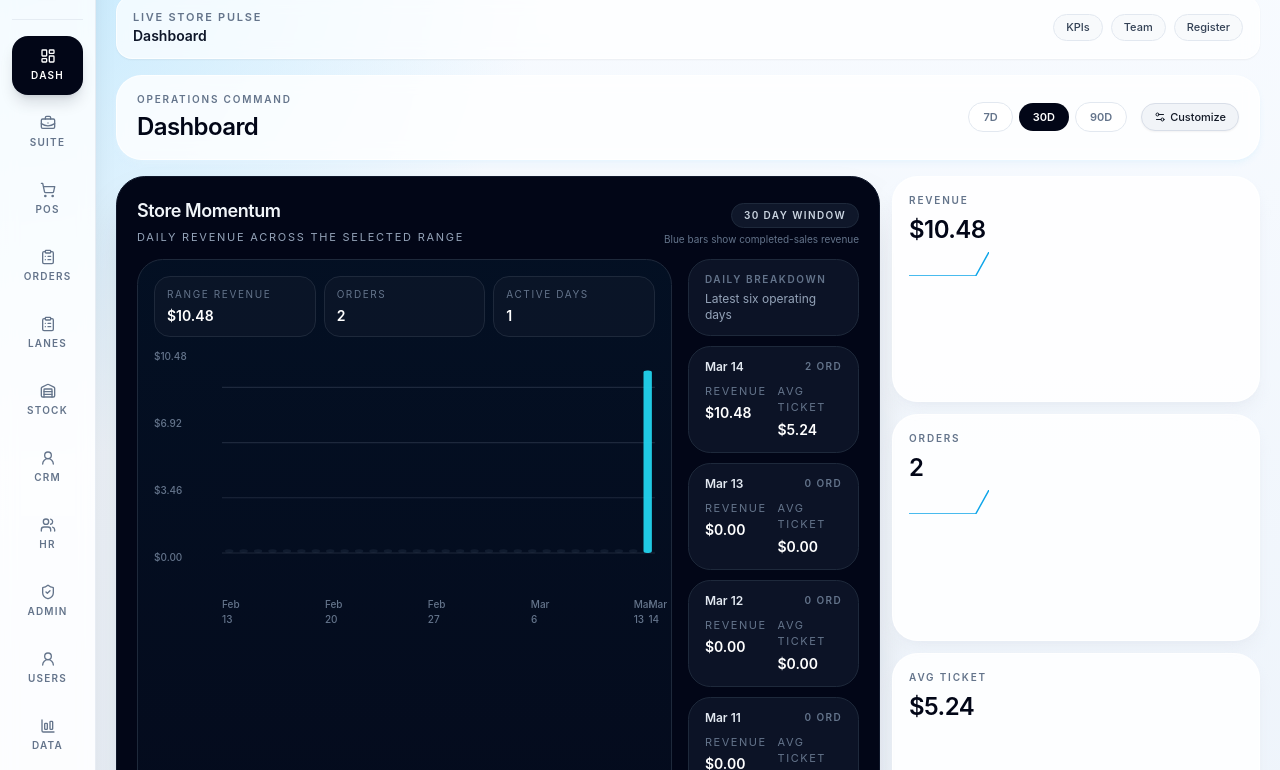
it: app flows › completes a checkout flow from pos page
This screenshot has width=1280, height=770.
Expected: the heading "Dashboard" is shown, [137,112,258,140]
Click the link "POS": {"x": 48, "y": 198} [35,182,60,215]
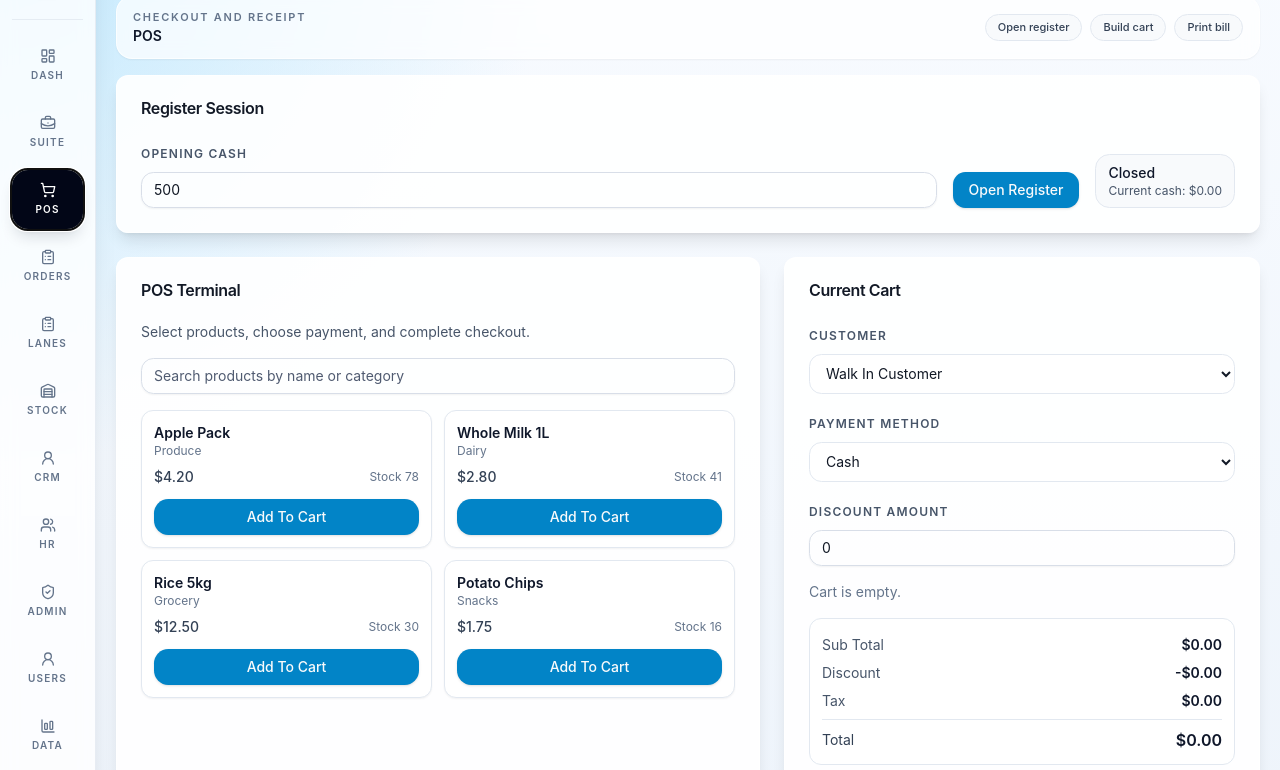
Expected: the heading "POS Terminal" is shown, [141,280,240,300]
Click the button "Open Register": {"x": 1016, "y": 190} [953,172,1080,208]
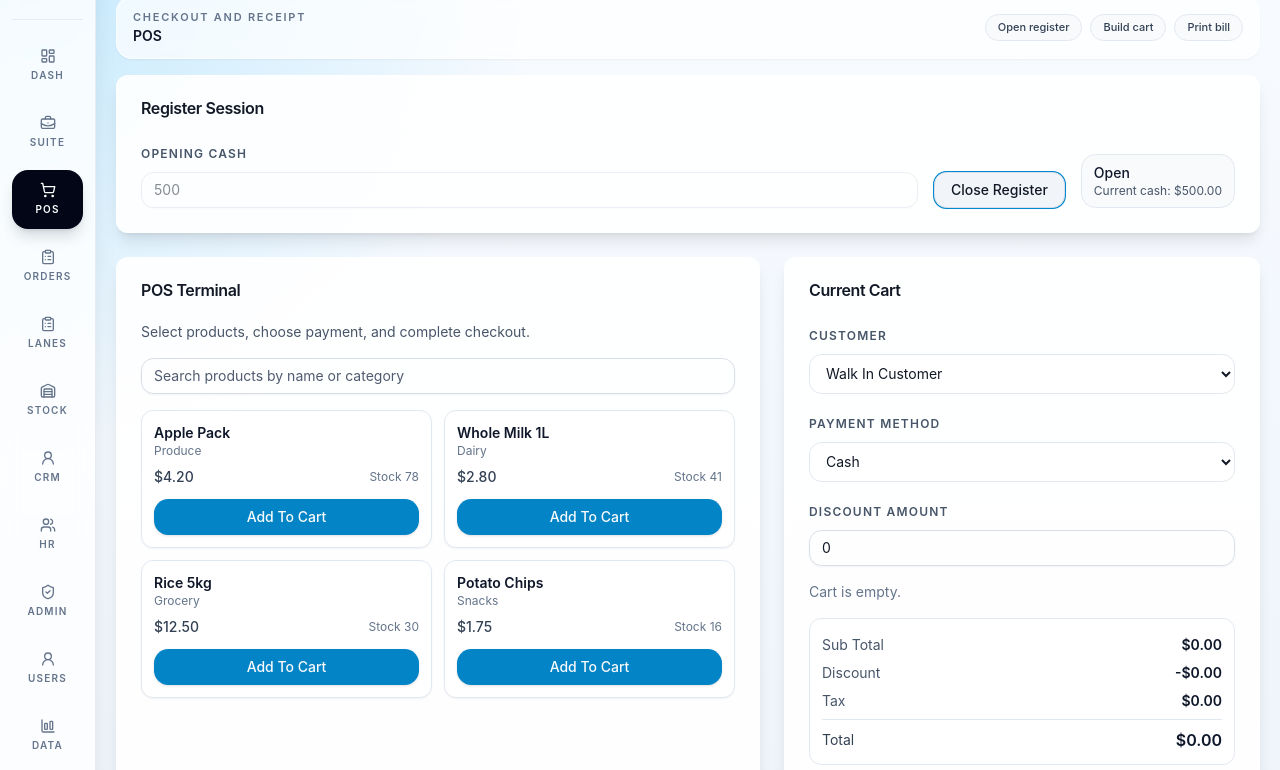
Click the button "Add To Cart" below "$4.20": {"x": 286, "y": 516} [154,498,419,534]
(page scrolled)
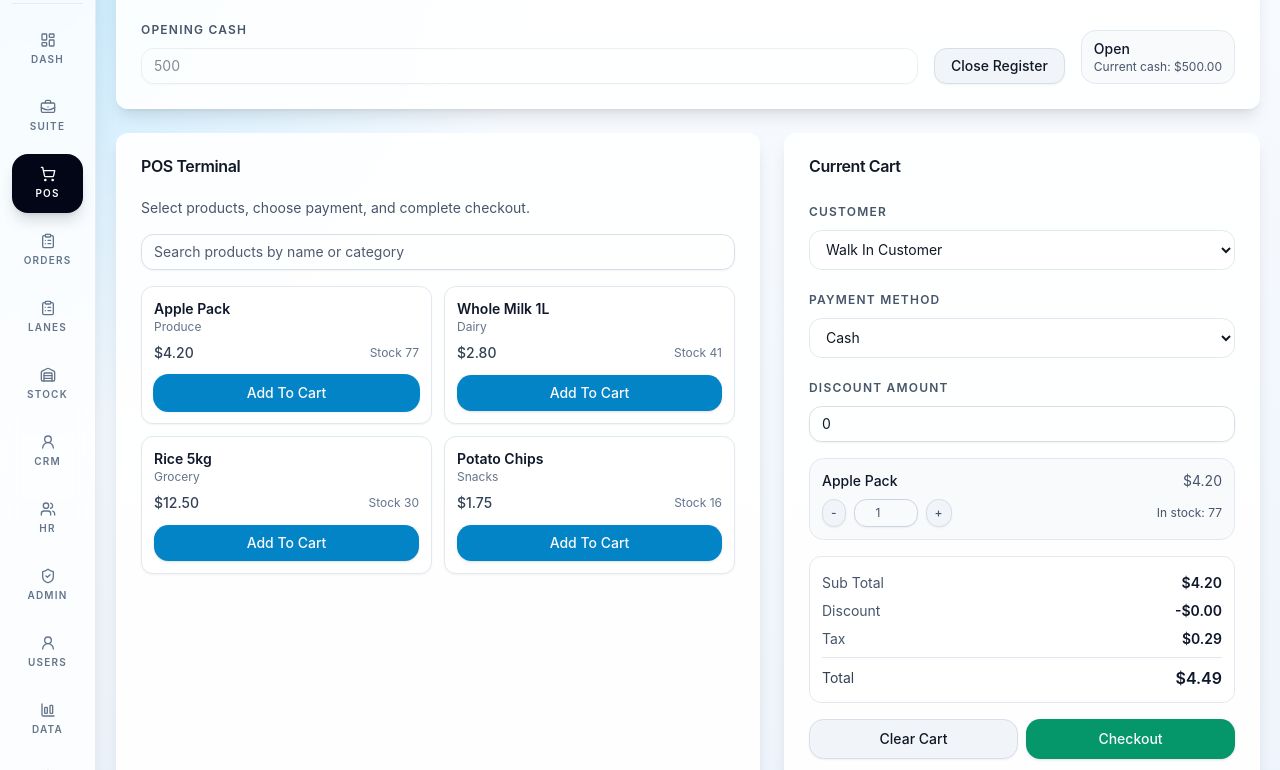
Click the button "Checkout": {"x": 1130, "y": 738} [1026,718,1235,758]
(page scrolled)
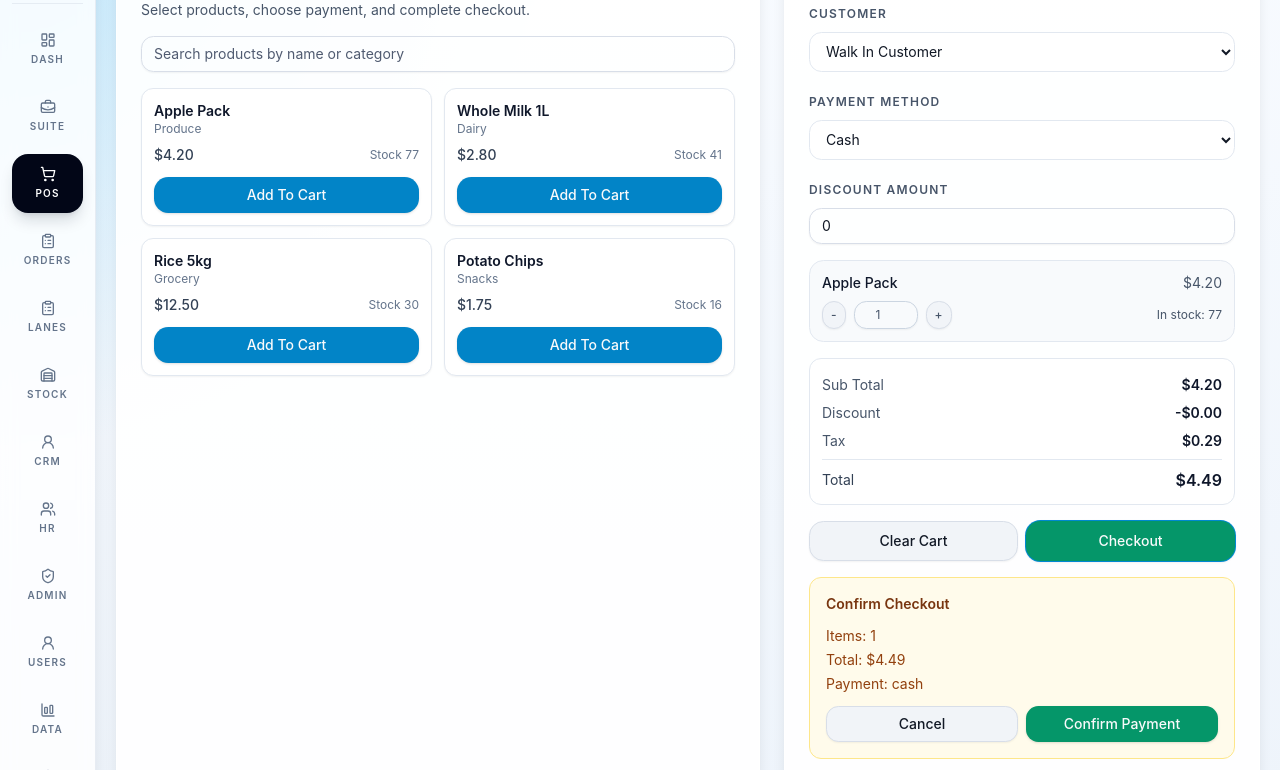
Click the button "Confirm Payment": {"x": 1122, "y": 724} [1026,706,1218,742]
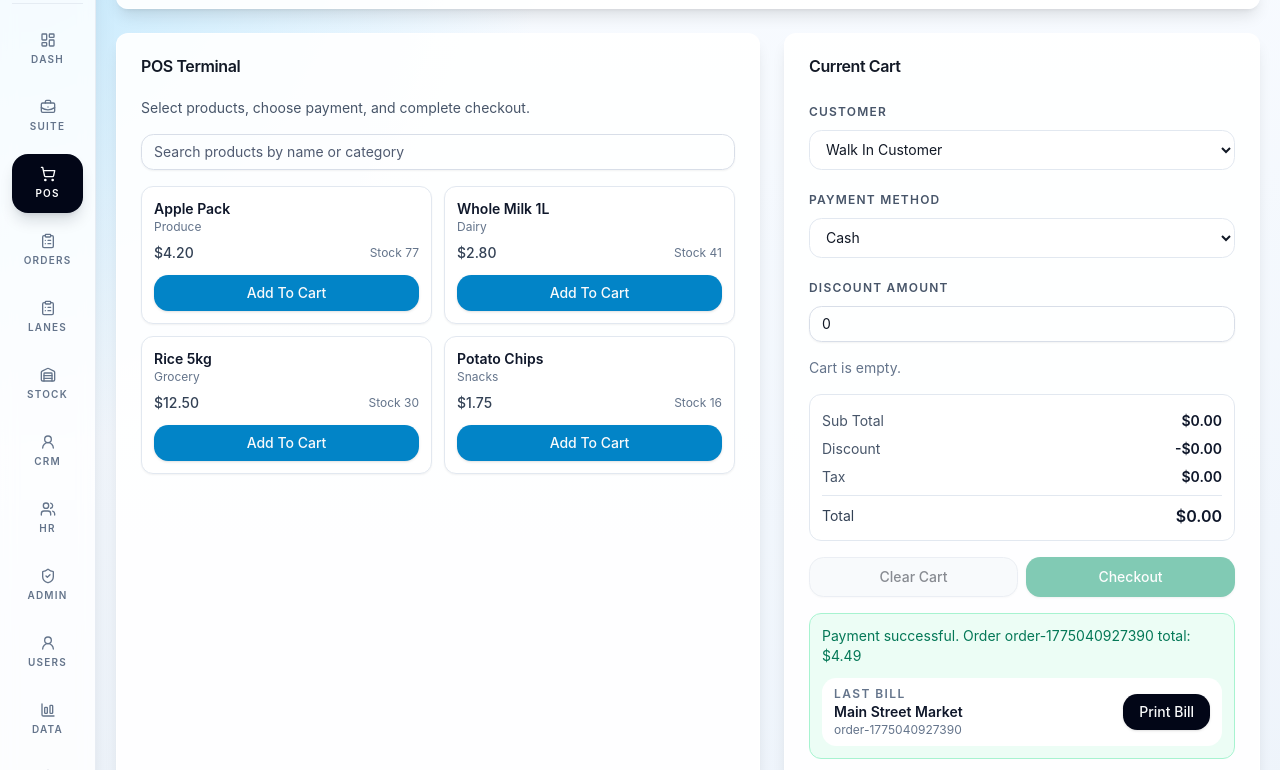
Expected: the text "Payment successful. Order order-1775040927390 total: $4.49" is shown, [822,626,1222,666]
Expected: the button "Print Bill" is shown, [1123,694,1210,730]
